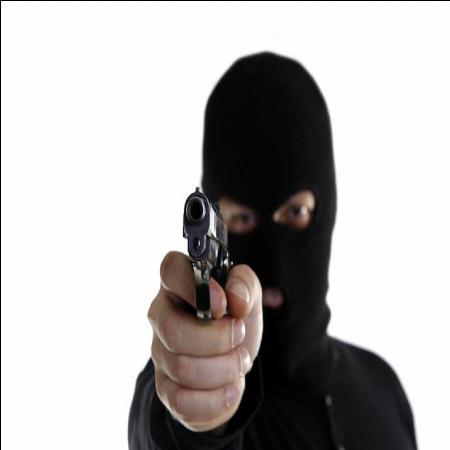Pistol: (182, 182, 236, 322)
